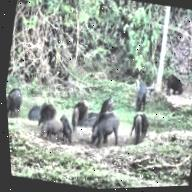boar: (83, 100, 127, 158), (5, 72, 34, 121), (37, 111, 65, 148), (158, 70, 187, 102), (54, 105, 76, 146), (21, 95, 44, 130), (70, 88, 93, 122), (130, 69, 150, 106), (34, 93, 58, 123), (66, 99, 83, 133), (127, 109, 151, 133), (128, 109, 144, 143), (98, 94, 112, 112)
